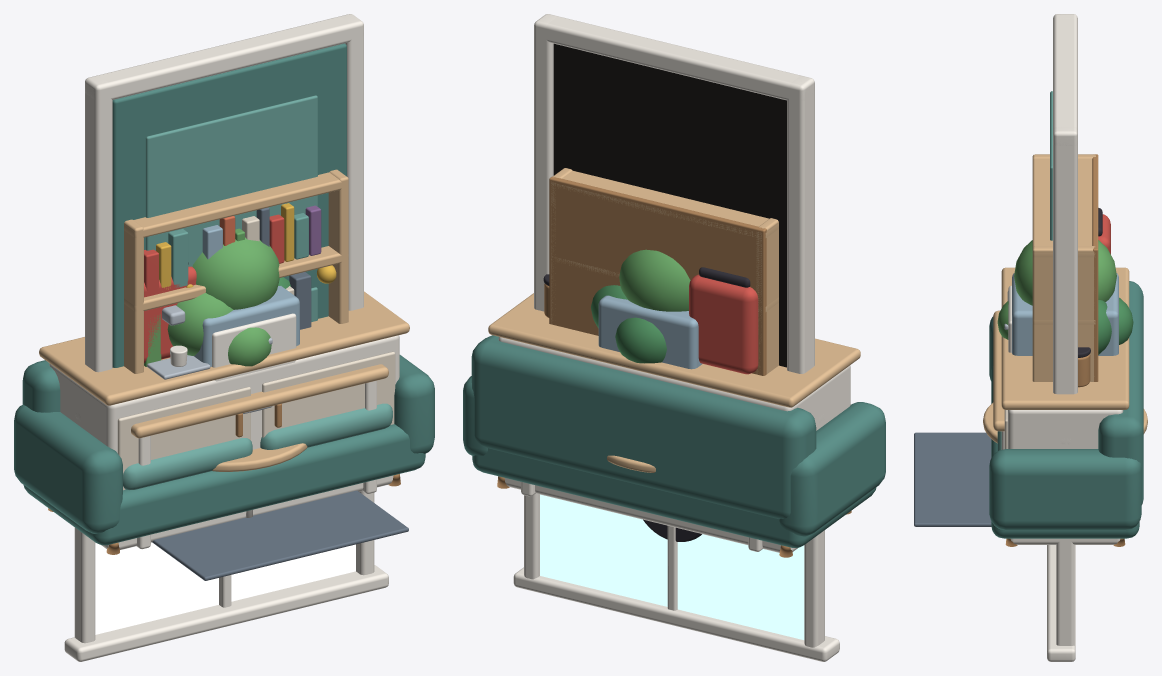
The model's file is office.glb.
3 renders of one model, left to right at view 1: azimuth 30°, elevation 25°; view 2: azimuth 150°, elevation 25°; view 3: azimuth 270°, elevation 25°, orthographic. The views are drawn at different scales.
Parts seen in each view (by area): view 1: Door_Panel, Door_Inset1, Couch_Base, Door_Mat, Window_Glass, Couch_Arm0, CoffeeBar_Cabinet, CoffeeBar_Top, Door_FrameL, Window_FrameB, Door_FrameT, Door_FrameR (+28 smaller); view 2: Couch_Back, Door_Void, Window_Glass, Bookshelf_Back, CoffeeBar_Top, Couch_Base, Couch_Arm0, Door_FrameL, Door_FrameT, Window_FrameB, CoffeeBar_Machine, CoffeeBar_Cabinet (+10 smaller); view 3: Couch_Arm1, Door_Mat, Door_FrameR, CoffeeBar_Top, CoffeeBar_Cabinet, Bookshelf_Side1, Couch_Back, Bookshelf_Shelf4, Door_FrameT, Window_FrameR, FilingCabinet_Body, PlantBig_Leaf0 (+9 smaller).
Part boxes in pixels (x1,y1,x2,y2): Door_Panel: (112,43,346,367); Door_Inset1: (145,95,317,266); Couch_Base: (23,424,425,545); Door_Mat: (152,490,408,580); Window_Glass: (95,542,355,634); Couch_Arm0: (14,404,122,533); CoffeeBar_Cabinet: (49,335,399,549); CoffeeBar_Top: (39,291,409,405); Door_FrameL: (85,75,112,372); Window_FrameB: (64,565,388,661); Door_FrameT: (85,14,363,100); Door_FrameR: (341,14,363,310); Couch_Back: (471,335,816,519); Door_Void: (553,43,786,367); Window_Glass: (540,494,804,639); Bookshelf_Back: (549,176,766,375); CoffeeBar_Top: (488,293,860,407); Couch_Base: (472,448,876,547); Couch_Arm0: (779,402,885,536); Door_FrameL: (787,75,814,373); Door_FrameT: (534,14,814,100); Window_FrameB: (513,567,839,661); CoffeeBar_Machine: (689,274,758,374); CoffeeBar_Cabinet: (498,337,850,552); Couch_Arm1: (989,449,1141,530); Door_Mat: (914,432,991,526); Door_FrameR: (1053,127,1077,394); CoffeeBar_Top: (1001,267,1129,409); CoffeeBar_Cabinet: (1007,410,1123,544); Bookshelf_Side1: (1032,246,1095,381); Couch_Back: (1098,281,1143,504); Bookshelf_Shelf4: (1032,158,1095,257); Door_FrameT: (1053,14,1077,145); Window_FrameR: (1056,438,1074,645); FilingCabinet_Body: (1012,273,1118,355); PlantBig_Leaf0: (1014,240,1116,305).
Size of the model in its own units: 1.8 by 2.79 by 1.14.
